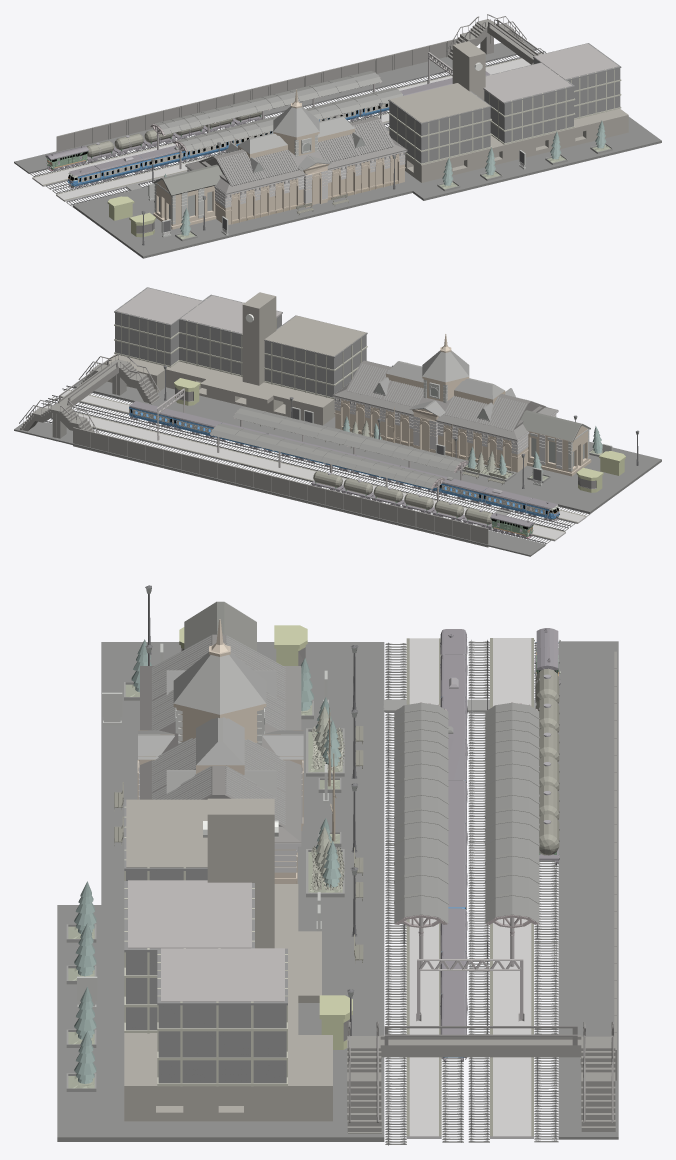
File: railway_station-transformed.glb
3 views of the same model, one above another, from view 1: azimuth 30°, elevation 25°; view 2: azimuth 150°, elevation 25°; view 3: azimuth 270°, elevation 25° (orthographic). The views are drawn at different scales.
Parts seen in each view (by area): view 1: Station (×3); view 2: Station (×3); view 3: Station (×3).
Part boxes in pixels (x1,y1,x2,y2): Station (×3): (14, 14, 661, 258); Station (×3): (14, 287, 661, 556); Station (×3): (57, 585, 618, 1145).
Size of the model in its own units: 93.79 by 17.91 by 44.1.
3 materials, 3 textured.
